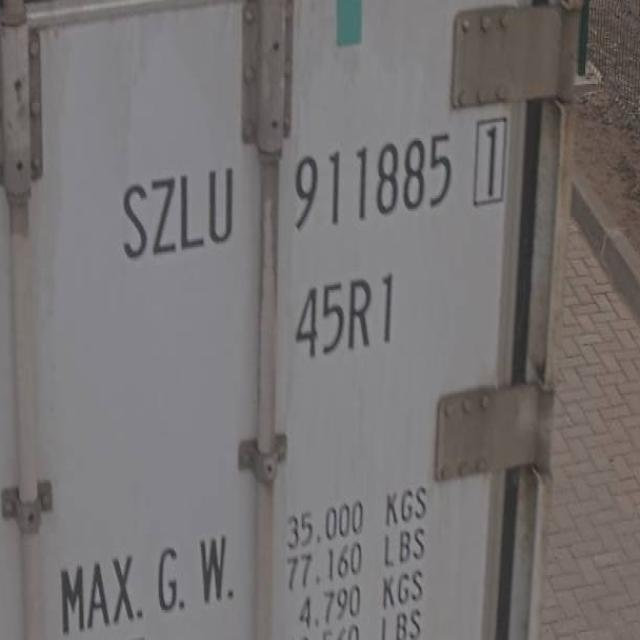dv: (467, 108, 508, 216)
owner: (111, 148, 240, 268)
serial: (288, 118, 456, 240)
size: (288, 265, 403, 367)
